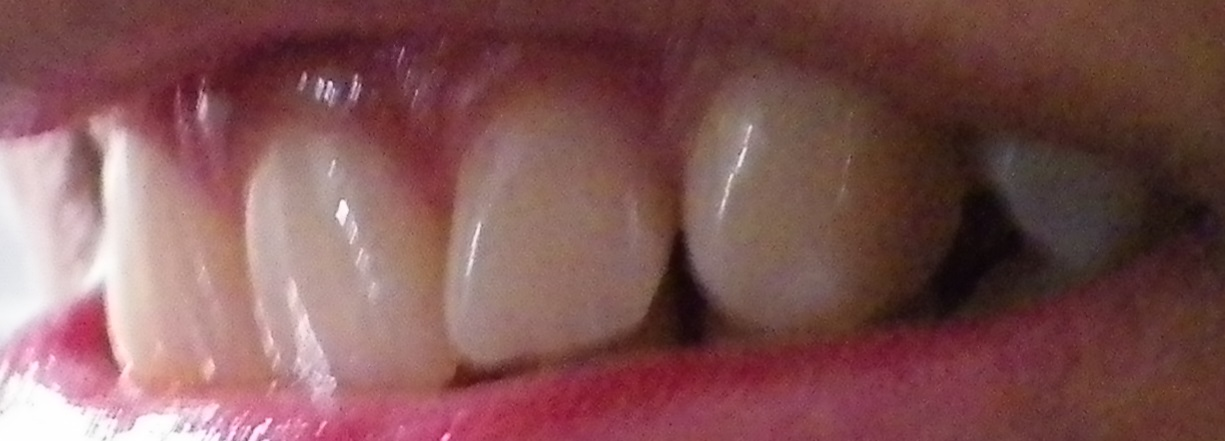boca: (94, 98, 1145, 405)
